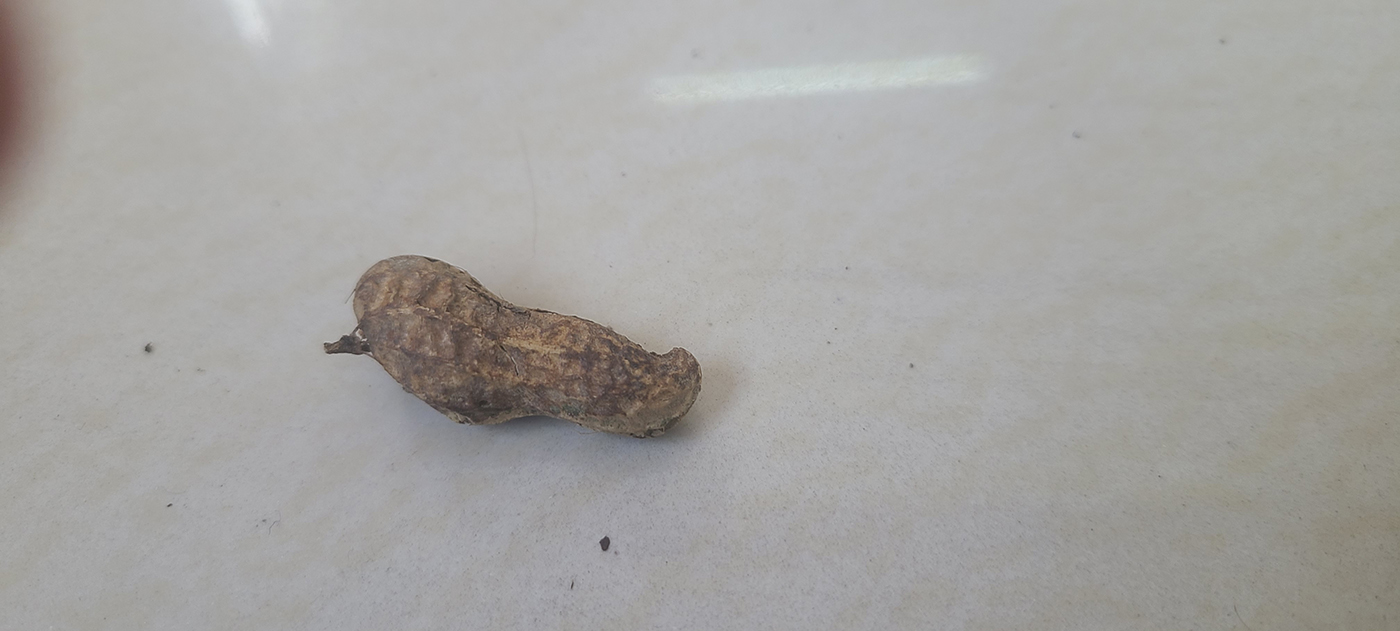l: (350, 251, 700, 440)
